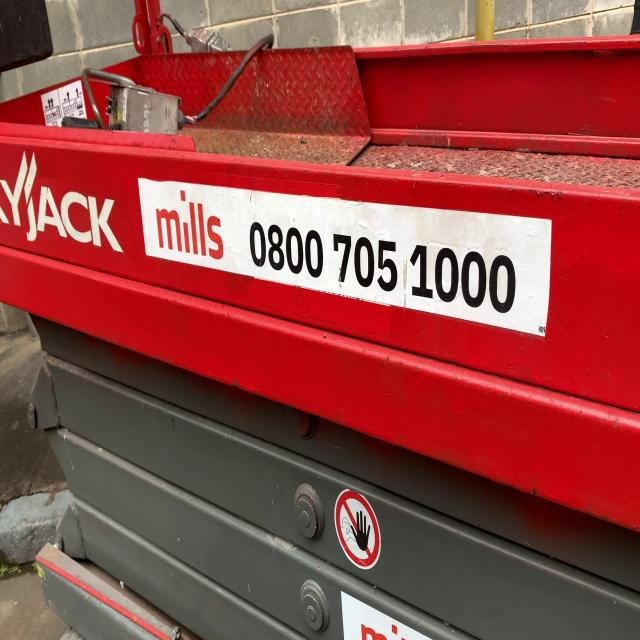Adesivo Longo: (136, 176, 553, 341)
